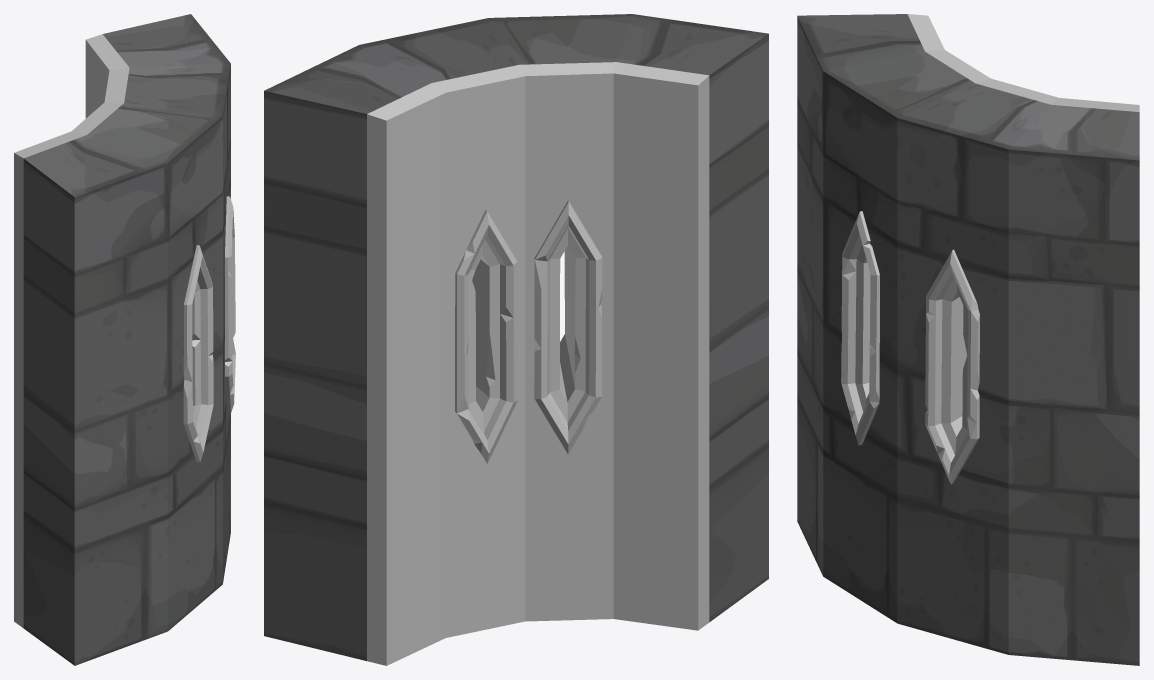
File: SM_Bld_Wall_L_Curve_Window_04.fbx
The picture shows the model from 3 angles, left to right: view 1: azimuth 30°, elevation 25°; view 2: azimuth 150°, elevation 25°; view 3: azimuth 270°, elevation 25°; orthographic projection. The views are drawn at different scales.
Visible parts, largest first — view 1: SM_Bld_Wall_L_Curve_Window_04; view 2: SM_Bld_Wall_L_Curve_Window_04; view 3: SM_Bld_Wall_L_Curve_Window_04.
Part boxes in pixels (<box>): SM_Bld_Wall_L_Curve_Window_04: <box>14,14,235,665</box>; SM_Bld_Wall_L_Curve_Window_04: <box>264,14,768,665</box>; SM_Bld_Wall_L_Curve_Window_04: <box>797,14,1139,665</box>.
Bounding box in the file's own units: 369 × 602 × 369.
